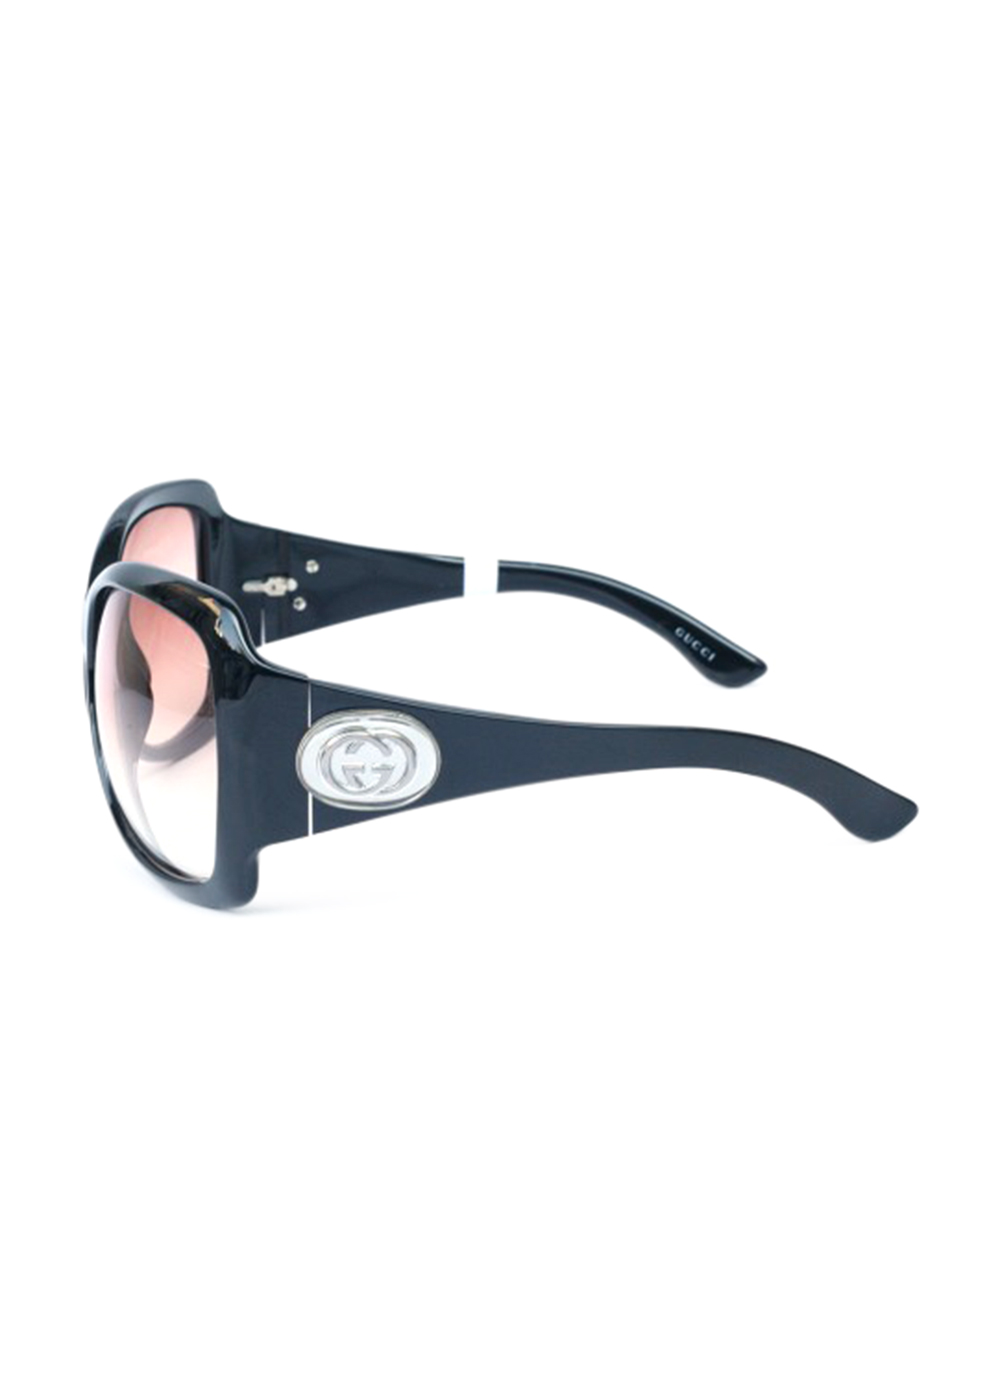Gucci: (293, 696, 445, 819), (659, 622, 725, 672)
